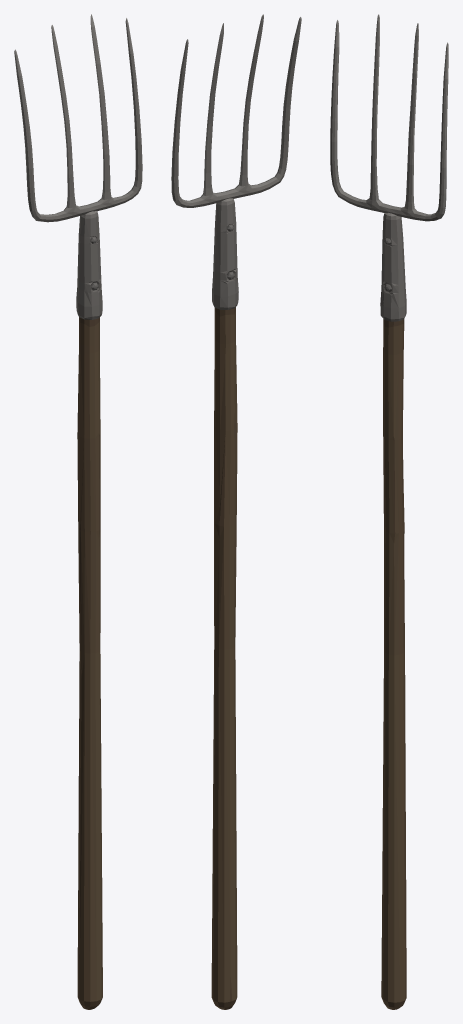
Rendered from pokeHeavyPitchfork.glb.
3 renders of one model, left to right at view 1: azimuth 30°, elevation 25°; view 2: azimuth 210°, elevation 25°; view 3: azimuth 330°, elevation 25°, orthographic.
Visible parts, largest first — view 1: pokeHeavyPitchfork; view 2: pokeHeavyPitchfork; view 3: pokeHeavyPitchfork.
Part boxes in pixels (x1=…): pokeHeavyPitchfork: x1=14, y1=14, x2=142, y2=1009; pokeHeavyPitchfork: x1=171, y1=14, x2=301, y2=1009; pokeHeavyPitchfork: x1=330, y1=14, x2=448, y2=1009.
Bounding box in the file's own units: 0.2206 × 1.75 × 0.0588.
